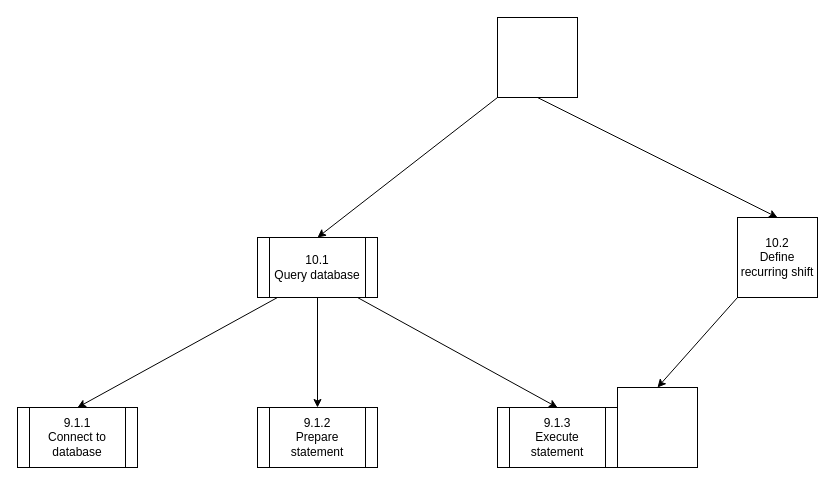
Some shapes in this 835 by 485 pixel diagram are drawn without their labels. Here are the shapes that lost their labels. From the top down, the centre of each, then its label:
At (x=537, y=57): "10.0 Create recurring shift".
At (x=657, y=427): "9.2.1 Display shift details".
